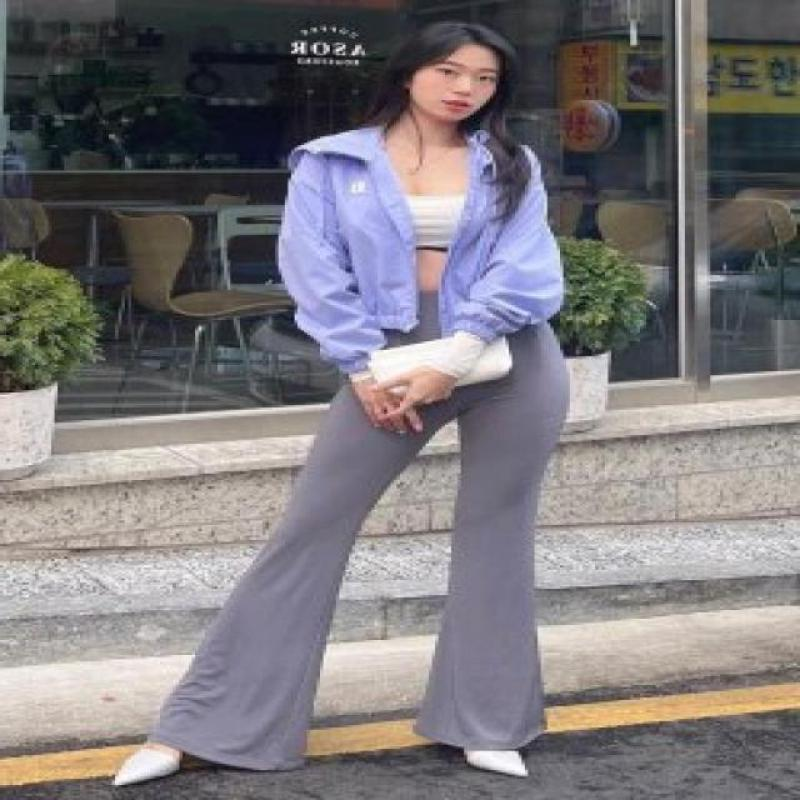jacket: (274, 125, 567, 375)
trousers: (147, 285, 575, 775)
vest: (382, 185, 480, 255)
